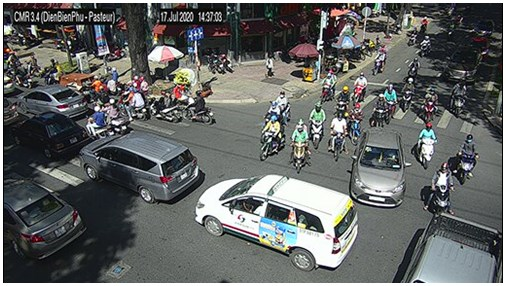xe_hoi: (80, 132, 199, 203), (3, 179, 86, 259), (350, 128, 407, 209), (14, 111, 88, 158), (16, 85, 88, 118), (445, 47, 480, 82), (468, 37, 490, 60), (474, 19, 492, 37)
xe_may: (423, 161, 454, 215), (454, 134, 480, 185), (260, 115, 286, 160), (413, 122, 437, 169), (290, 119, 310, 174), (150, 90, 182, 123), (183, 90, 213, 124), (117, 86, 147, 120), (328, 112, 348, 161), (101, 98, 126, 135), (86, 105, 113, 138), (308, 102, 326, 151), (449, 78, 468, 117), (348, 103, 364, 146), (100, 66, 121, 94), (319, 70, 337, 102), (422, 87, 438, 123), (334, 85, 351, 118), (14, 61, 34, 89), (274, 92, 292, 123), (400, 78, 415, 113), (351, 72, 367, 102), (383, 83, 397, 117), (371, 93, 385, 127), (265, 101, 281, 128), (373, 47, 387, 75), (25, 54, 42, 77), (93, 85, 108, 106), (8, 53, 19, 79), (408, 57, 420, 78), (420, 35, 431, 57), (408, 30, 419, 48), (421, 17, 429, 36)
xe_taxi: (195, 175, 359, 272)
